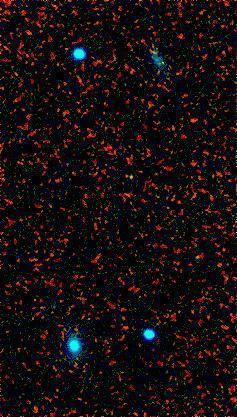star: (146, 44, 176, 74)
